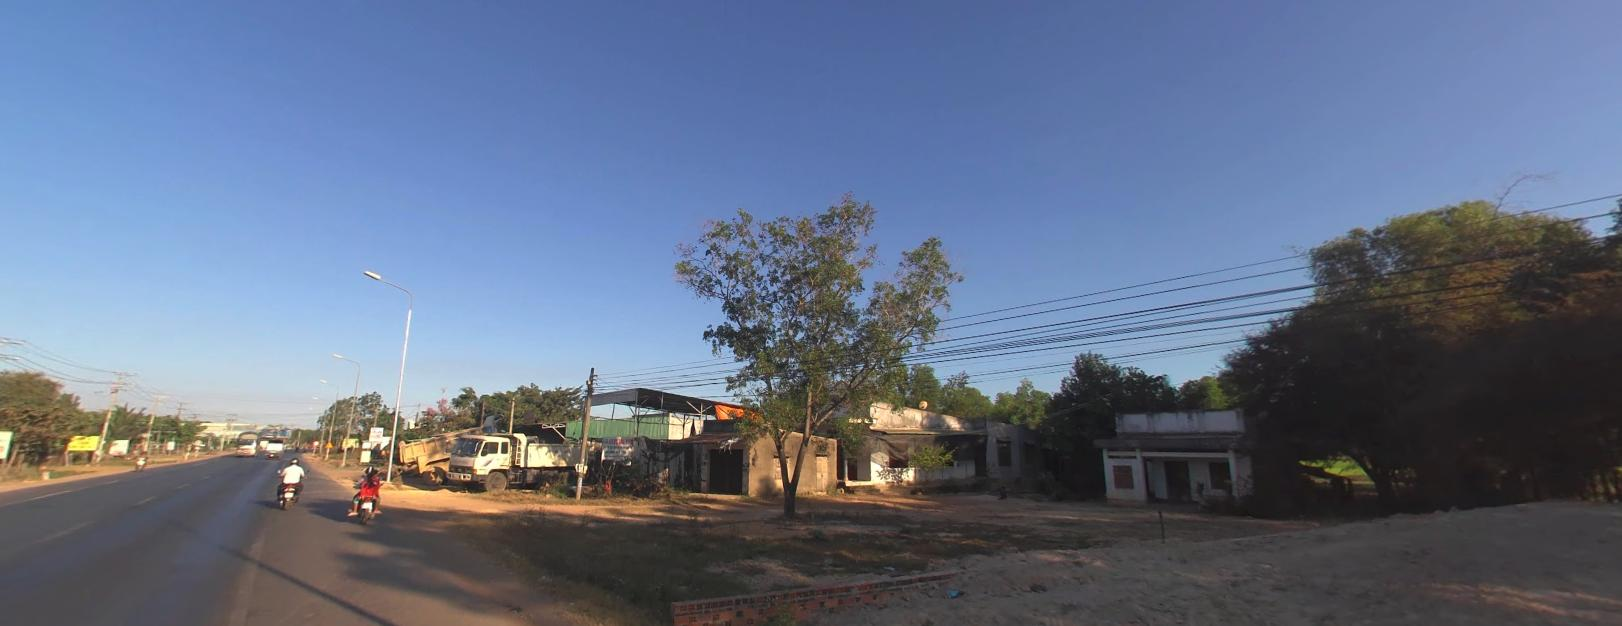Nguy hiem: (323, 439, 332, 447)
